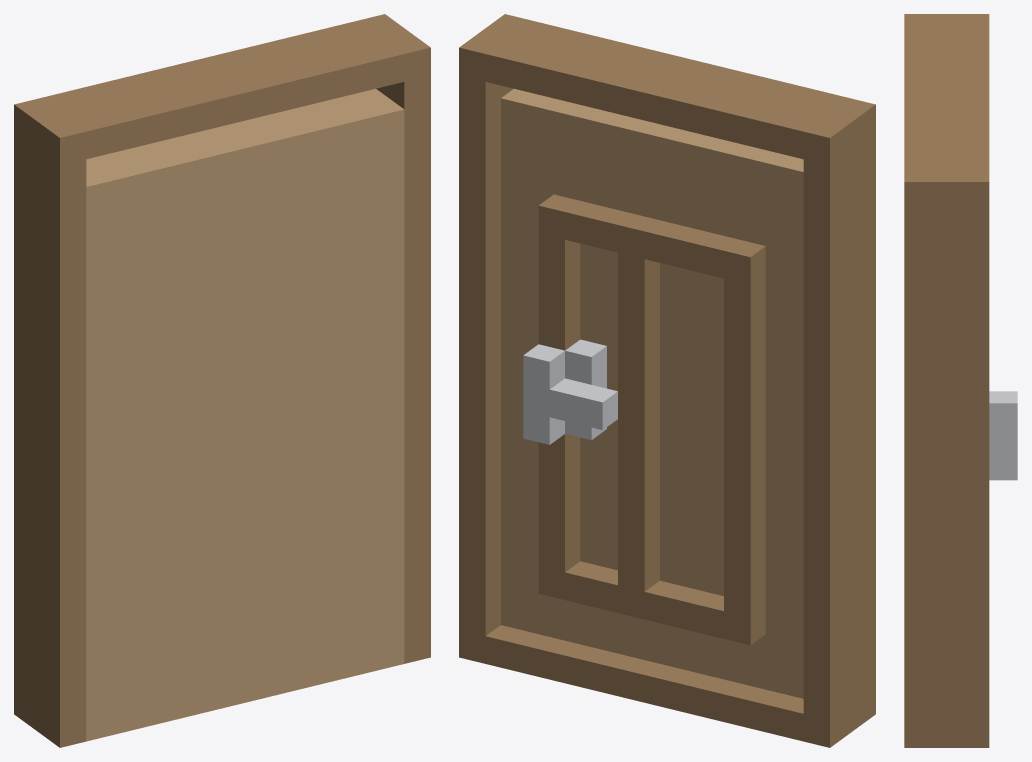
The model's file is door.fbx.
The picture shows the model from 3 angles, left to right: view 1: azimuth 30°, elevation 25°; view 2: azimuth 150°, elevation 25°; view 3: azimuth 270°, elevation 25°; orthographic projection. The views are drawn at different scales.
Visible parts, largest first — view 1: Door_Body, Door_Frame; view 2: Door_Frame, Door_Body, Door_Trim, Door_Handle; view 3: Door_Frame, Door_Handle.
Part boxes in pixels (<box>): Door_Body: <box>86,88,404,741</box>; Door_Frame: <box>14,14,430,747</box>; Door_Frame: <box>459,14,875,747</box>; Door_Body: <box>501,88,803,698</box>; Door_Trim: <box>538,194,765,645</box>; Door_Handle: <box>523,339,617,444</box>; Door_Frame: <box>904,14,989,747</box>; Door_Handle: <box>989,391,1017,480</box>.
Size of the model in its own units: 140 by 220 by 40.
